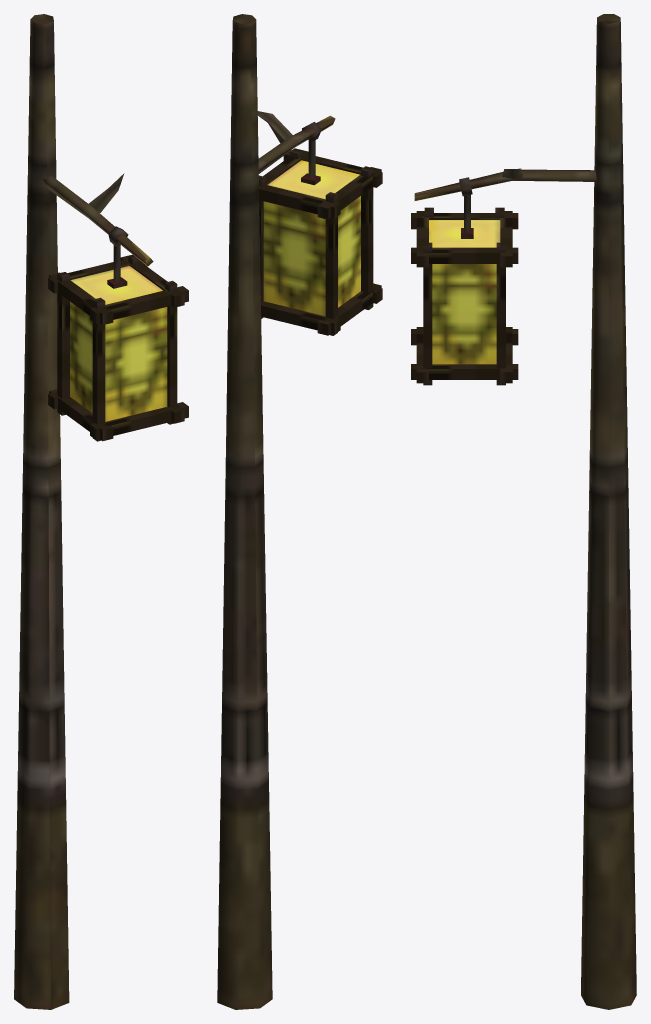
The picture shows the model from 3 angles, left to right: view 1: azimuth 30°, elevation 25°; view 2: azimuth 150°, elevation 25°; view 3: azimuth 270°, elevation 25°; orthographic projection.
Parts seen in each view (by area): view 1: jomyoung08; view 2: jomyoung08; view 3: jomyoung08.
Boxes of the visible parts, x1,y1,x2,y2 form: jomyoung08: (14, 14, 188, 1009); jomyoung08: (217, 14, 382, 1009); jomyoung08: (411, 14, 636, 1009).
Size of the model in its own units: 0.606 by 6.11 by 1.28.
1 material, 1 textured.
